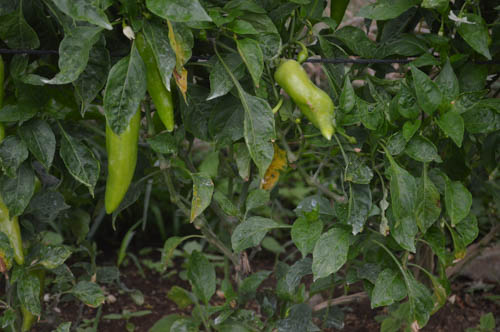ChiliPepper: (269, 60, 340, 142), (135, 30, 179, 142), (97, 111, 142, 219), (1, 202, 34, 274), (18, 271, 50, 332)
